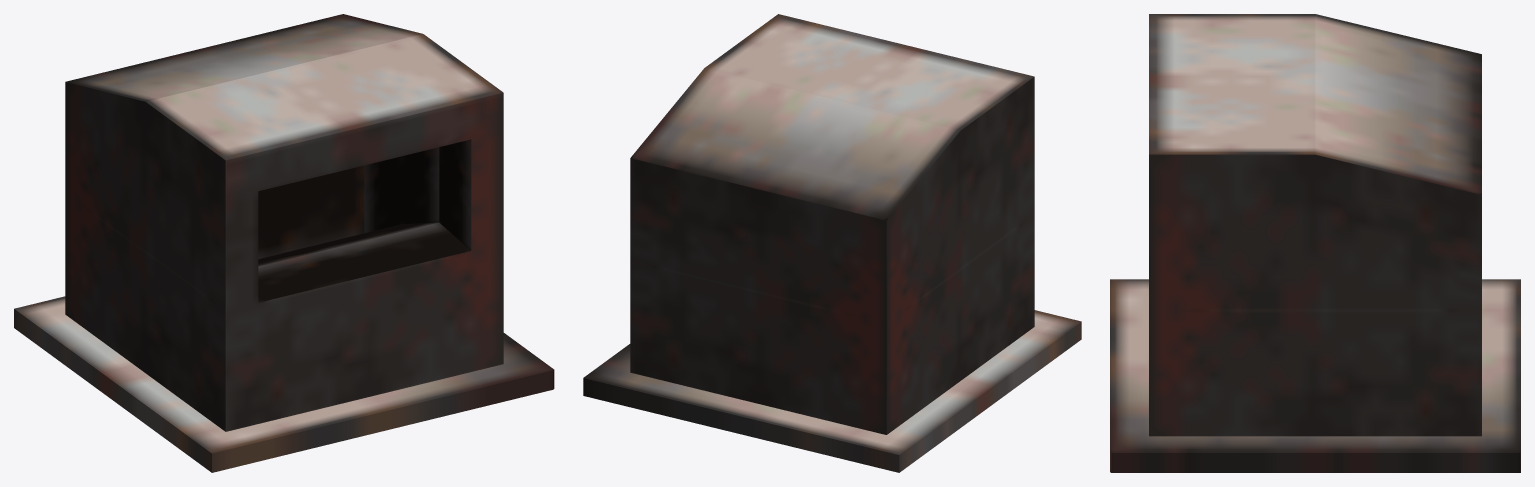
Rendered from Poly_SF_Outside_B_Chimney_01.obj.
The picture shows the model from 3 angles, left to right: view 1: azimuth 30°, elevation 25°; view 2: azimuth 150°, elevation 25°; view 3: azimuth 270°, elevation 25°; orthographic projection. The views are drawn at different scales.
Visible parts, largest first — view 1: Cube.003; view 2: Cube.003; view 3: Cube.003.
Boxes of the visible parts, <box> form: Cube.003: <box>14,14,554,472</box>; Cube.003: <box>583,14,1081,472</box>; Cube.003: <box>1110,14,1520,472</box>.
Size of the model in its own units: 0.74 by 0.6 by 0.74.
Materials: 1 (1 with a texture image).
